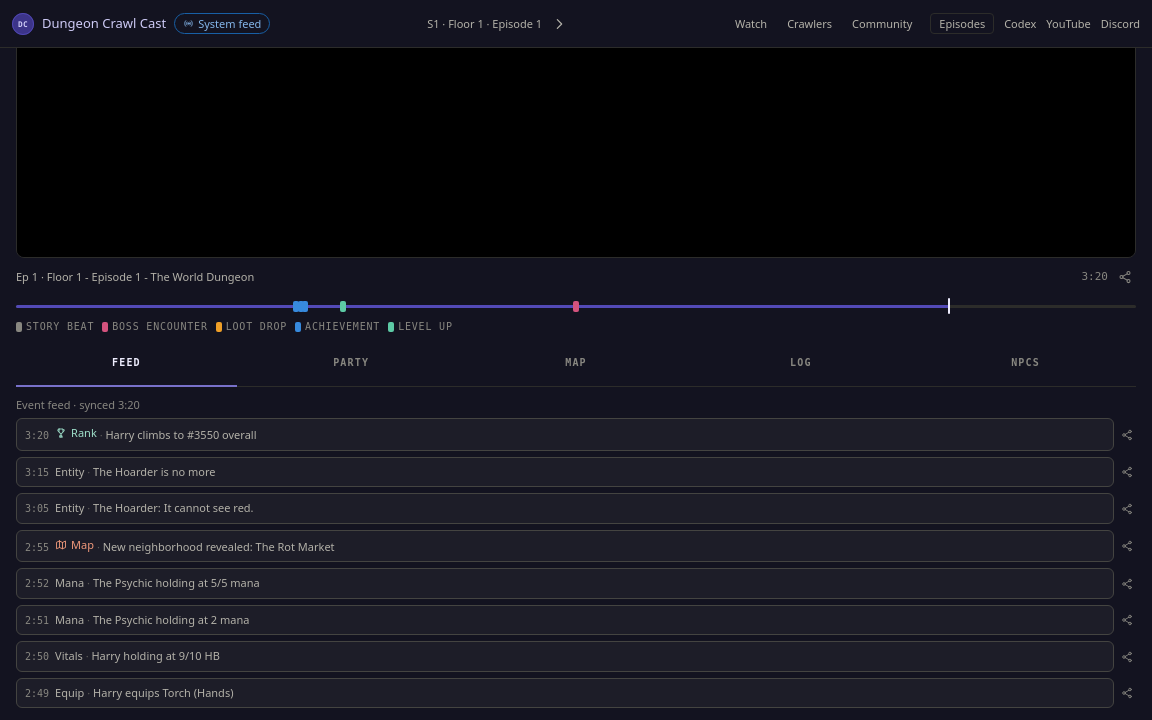
Scenario: EpisodePage on a phone › opens the entity record as a bottom sheet over the tabs
(page scrolled)
Click the tab with test id "tab-npcs": (1026, 364) [915, 342, 1136, 386]
(page scrolled)
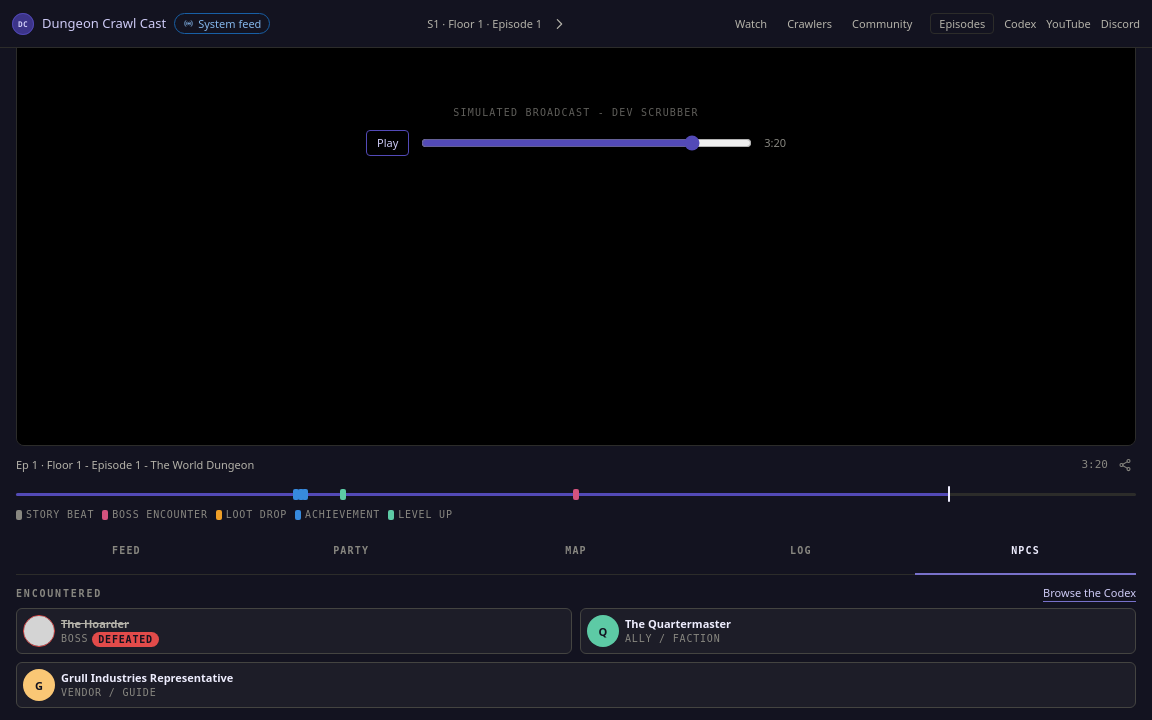
Click the button "The Hoarder Boss DEFEATED": (39, 631) [16, 608, 572, 654]
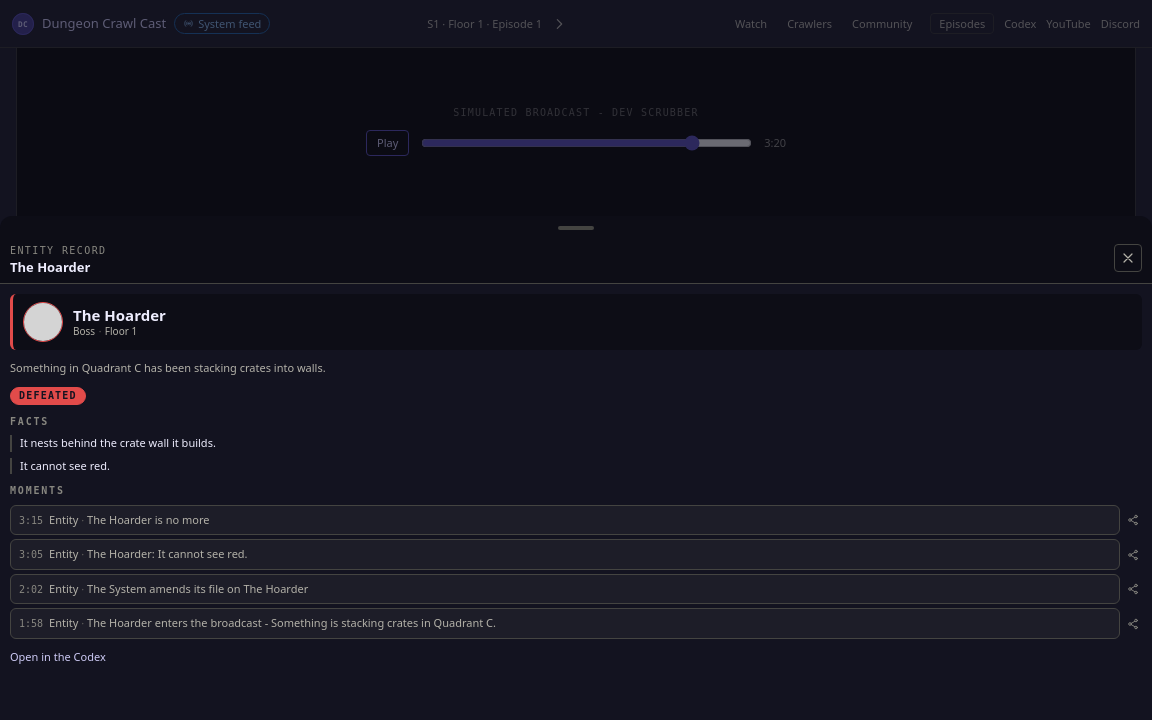
Expected: the text "ENTITY RECORD" is shown, [10, 245, 106, 256]
Click the button with test id "panel-close": (1128, 258) [1114, 244, 1142, 272]
(page scrolled)
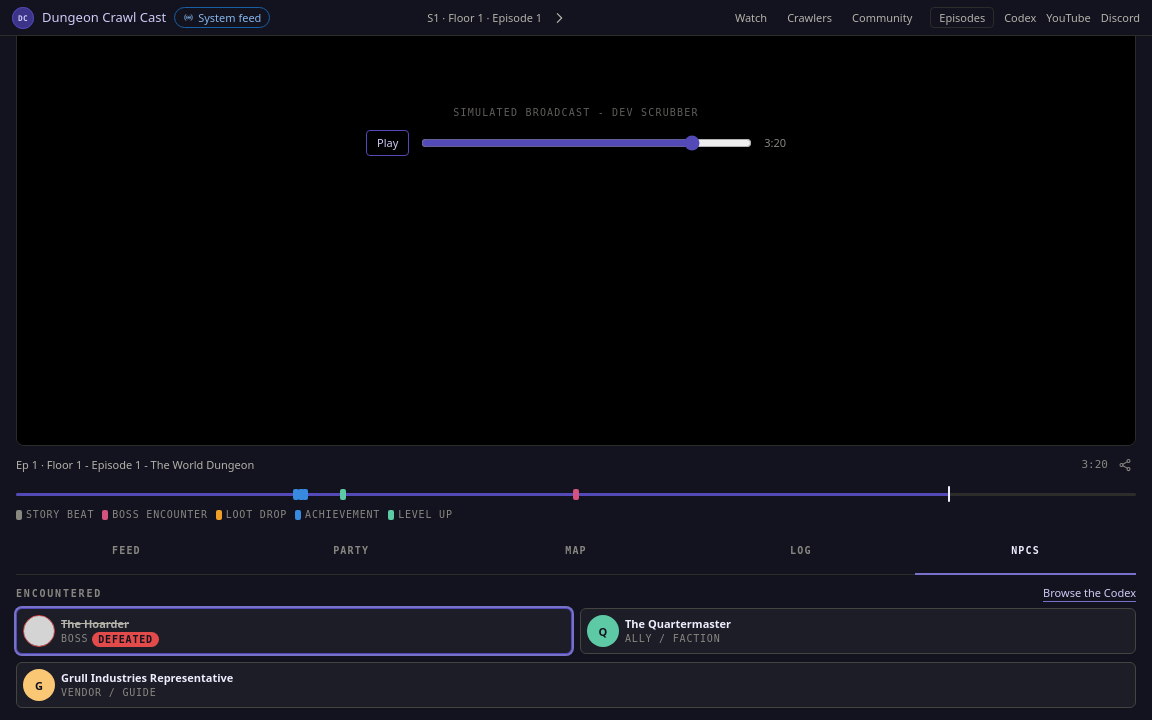
Expected: the element with test id "npc-record" is gone
